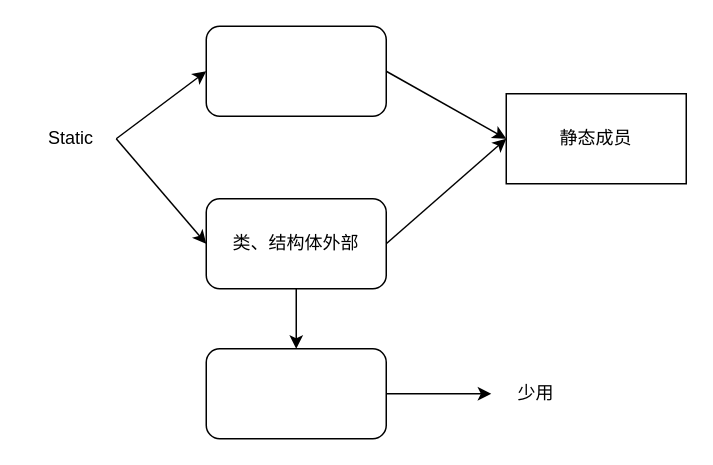
Image size: 713x465. Some labels were removed from this diagram. Each missing label, with the centre of its shape:
"全局变量" belongs at [295,393].
"类、结构体内部" belongs at [295,70].
